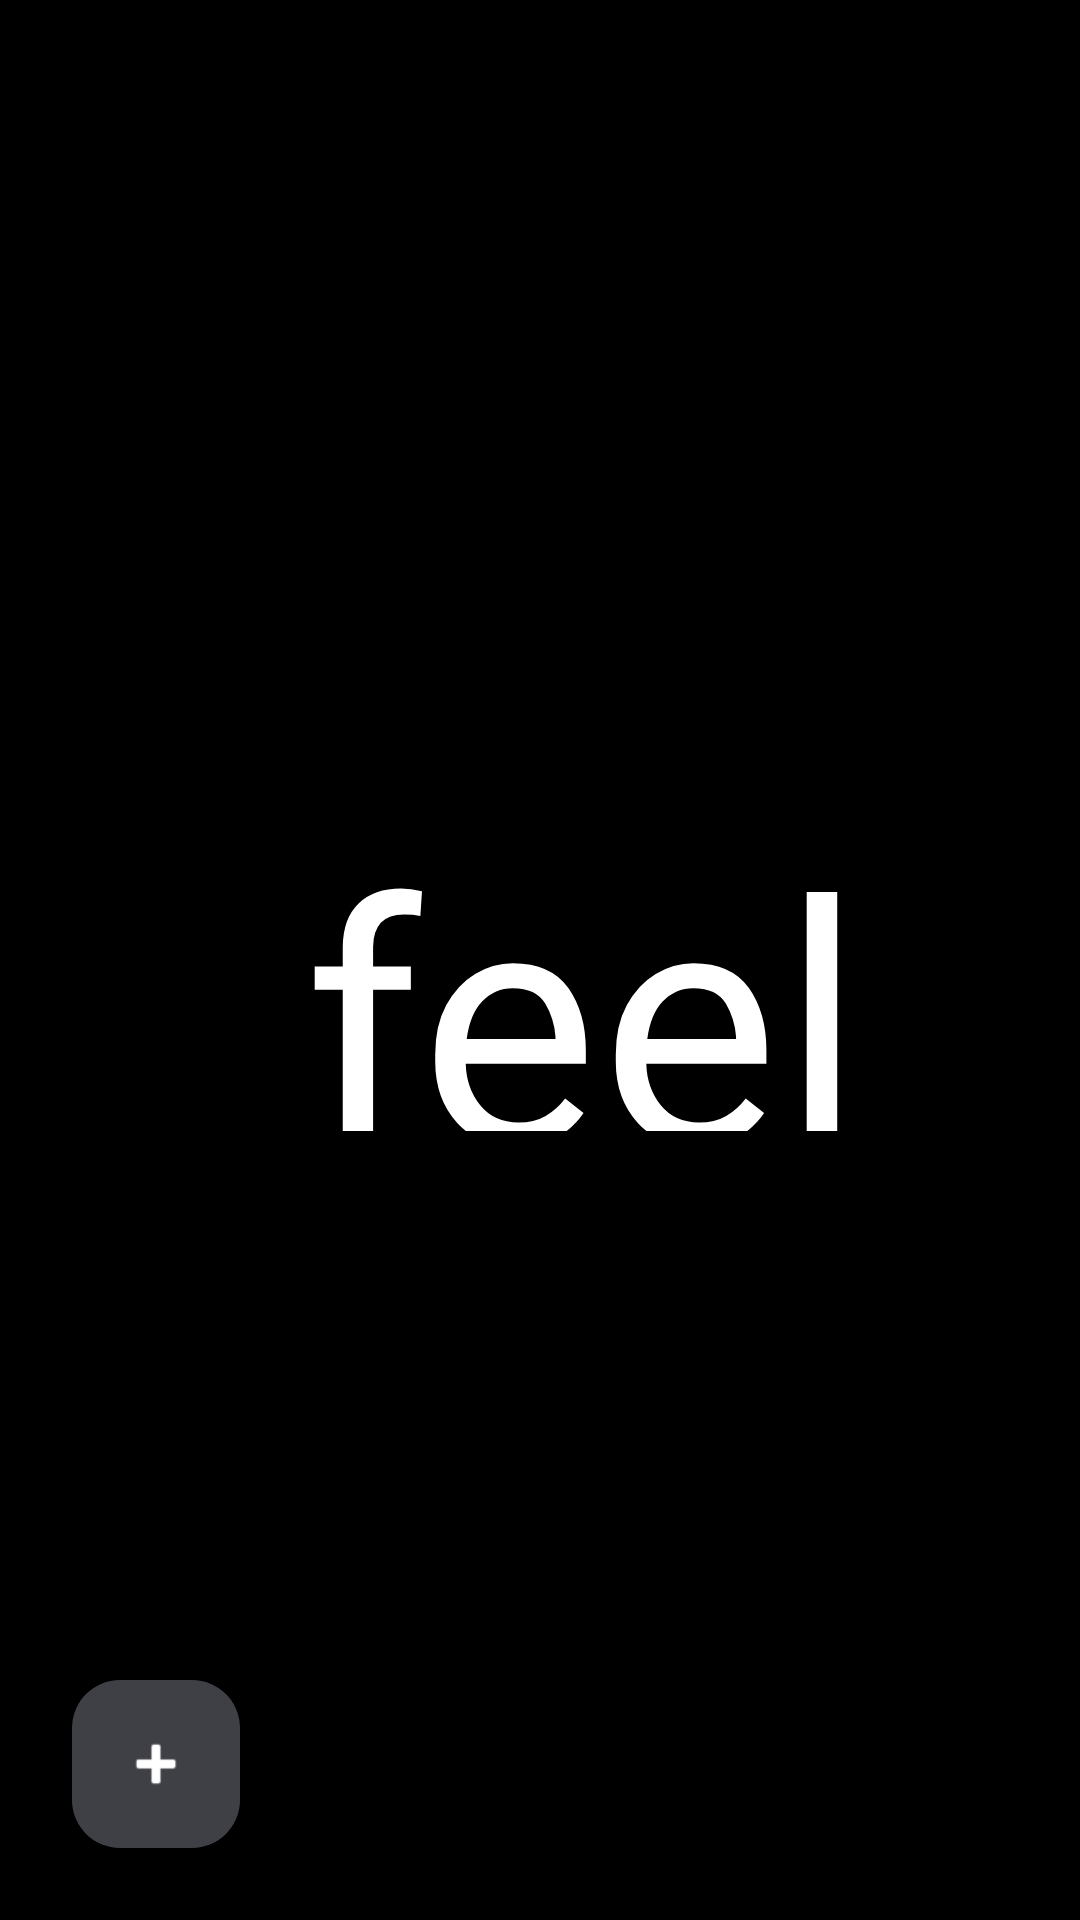

Locate icon controls on the screen. Image size 1080px×1920px, boxes as (x1, y1, x2, y2).
add: (72, 1680, 240, 1848)
